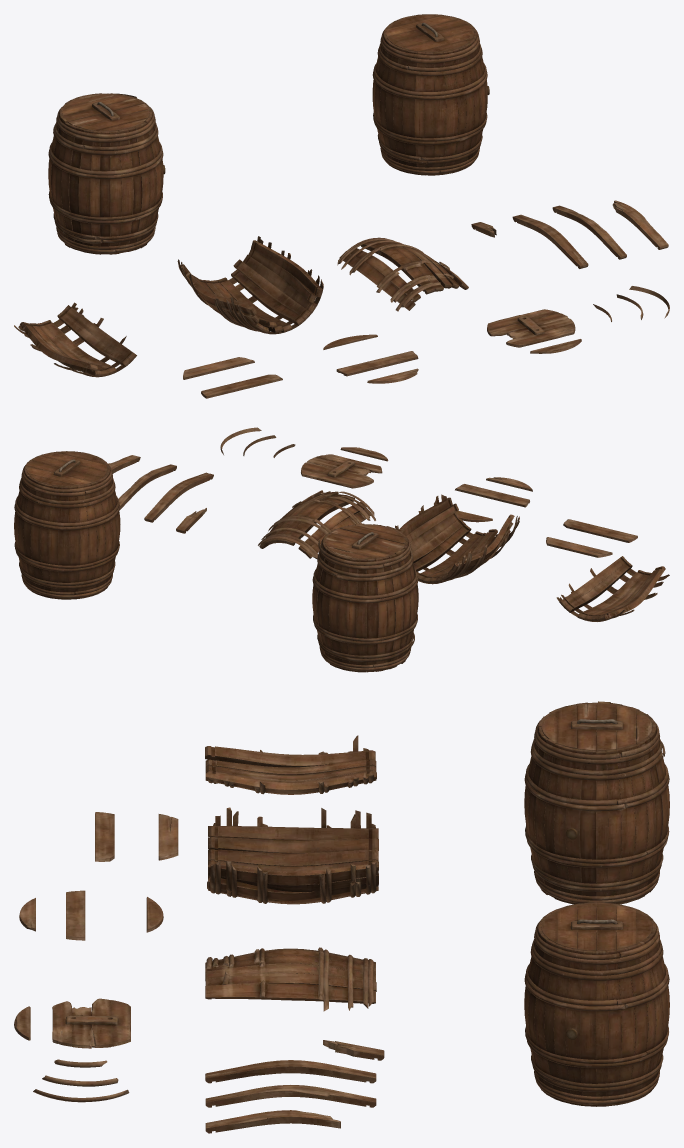
Rendered from wooden_barrels_01.glb.
3 views of the same model, one above another, from view 1: azimuth 30°, elevation 25°; view 2: azimuth 150°, elevation 25°; view 3: azimuth 270°, elevation 25° (orthographic). The views are drawn at different scales.
Parts seen in each view (by area): view 1: wooden_barrels_01_barrel02, wooden_barrels_01_barrel01, wooden_barrels_01_piece01, wooden_barrels_01_piece03, wooden_barrels_01_piece02, wooden_barrels_01_piece08, wooden_barrels_01_piece04, wooden_barrels_01_piece05, wooden_barrels_01_piece06, wooden_barrels_01_piece11, wooden_barrels_01_piece14, wooden_barrels_01_piece13; view 2: wooden_barrels_01_barrel02, wooden_barrels_01_barrel01, wooden_barrels_01_piece01, wooden_barrels_01_piece03, wooden_barrels_01_piece02, wooden_barrels_01_piece08, wooden_barrels_01_piece04, wooden_barrels_01_piece14, wooden_barrels_01_piece11, wooden_barrels_01_piece05, wooden_barrels_01_piece13; view 3: wooden_barrels_01_barrel01, wooden_barrels_01_barrel02, wooden_barrels_01_piece01, wooden_barrels_01_piece03, wooden_barrels_01_piece02, wooden_barrels_01_piece08, wooden_barrels_01_piece04, wooden_barrels_01_piece05, wooden_barrels_01_piece06, wooden_barrels_01_piece11, wooden_barrels_01_piece14, wooden_barrels_01_piece13 (+1 smaller).
Boxes of the visible parts, x1=… form: wooden_barrels_01_barrel02: x1=48, y1=93, x2=165, y2=254; wooden_barrels_01_barrel01: x1=372, y1=14, x2=489, y2=175; wooden_barrels_01_piece01: x1=177, y1=236, x2=323, y2=334; wooden_barrels_01_piece03: x1=337, y1=237, x2=468, y2=311; wooden_barrels_01_piece02: x1=14, y1=302, x2=136, y2=377; wooden_barrels_01_piece08: x1=487, y1=309, x2=575, y2=347; wooden_barrels_01_piece04: x1=512, y1=214, x2=588, y2=268; wooden_barrels_01_piece05: x1=552, y1=205, x2=626, y2=259; wooden_barrels_01_piece06: x1=612, y1=200, x2=668, y2=249; wooden_barrels_01_piece11: x1=336, y1=351, x2=418, y2=376; wooden_barrels_01_piece14: x1=201, y1=374, x2=282, y2=398; wooden_barrels_01_piece13: x1=183, y1=357, x2=254, y2=379; wooden_barrels_01_barrel02: x1=312, y1=523, x2=418, y2=672; wooden_barrels_01_barrel01: x1=14, y1=451, x2=120, y2=599; wooden_barrels_01_piece01: x1=395, y1=494, x2=519, y2=584; wooden_barrels_01_piece03: x1=258, y1=490, x2=375, y2=558; wooden_barrels_01_piece02: x1=556, y1=556, x2=669, y2=621; wooden_barrels_01_piece08: x1=301, y1=454, x2=382, y2=488; wooden_barrels_01_piece04: x1=144, y1=472, x2=213, y2=522; wooden_barrels_01_piece14: x1=563, y1=519, x2=637, y2=542; wooden_barrels_01_piece11: x1=455, y1=484, x2=529, y2=507; wooden_barrels_01_piece05: x1=118, y1=464, x2=176, y2=510; wooden_barrels_01_piece13: x1=546, y1=537, x2=612, y2=557; wooden_barrels_01_barrel01: x1=524, y1=902, x2=669, y2=1106; wooden_barrels_01_barrel02: x1=524, y1=701, x2=669, y2=904; wooden_barrels_01_piece01: x1=207, y1=807, x2=378, y2=904; wooden_barrels_01_piece03: x1=205, y1=947, x2=376, y2=1011; wooden_barrels_01_piece02: x1=205, y1=735, x2=376, y2=794; wooden_barrels_01_piece08: x1=52, y1=998, x2=130, y2=1048; wooden_barrels_01_piece04: x1=205, y1=1060, x2=376, y2=1083; wooden_barrels_01_piece05: x1=205, y1=1085, x2=376, y2=1107; wooden_barrels_01_piece06: x1=205, y1=1110, x2=340, y2=1133; wooden_barrels_01_piece11: x1=66, y1=890, x2=85, y2=940; wooden_barrels_01_piece14: x1=95, y1=812, x2=114, y2=861; wooden_barrels_01_piece13: x1=158, y1=814, x2=178, y2=860.
Size of the model in its own units: 4.44 by 0.9567 by 3.34.
Materials: 3 (3 with a texture image).
